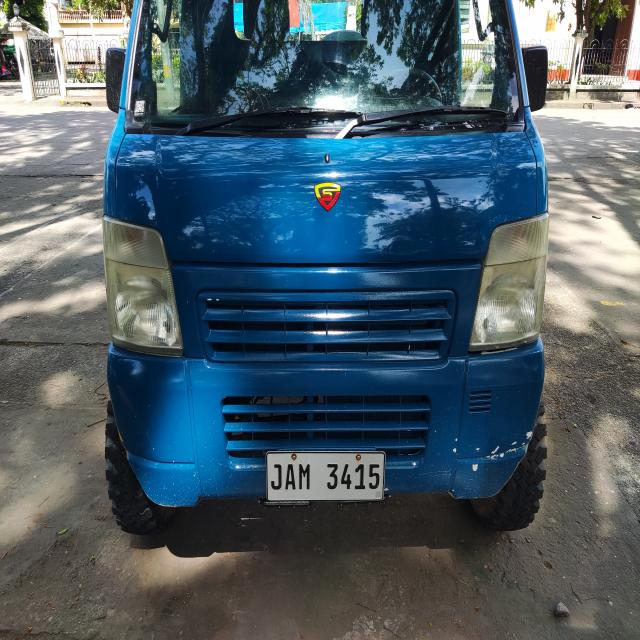plate: (265, 450, 387, 502)
